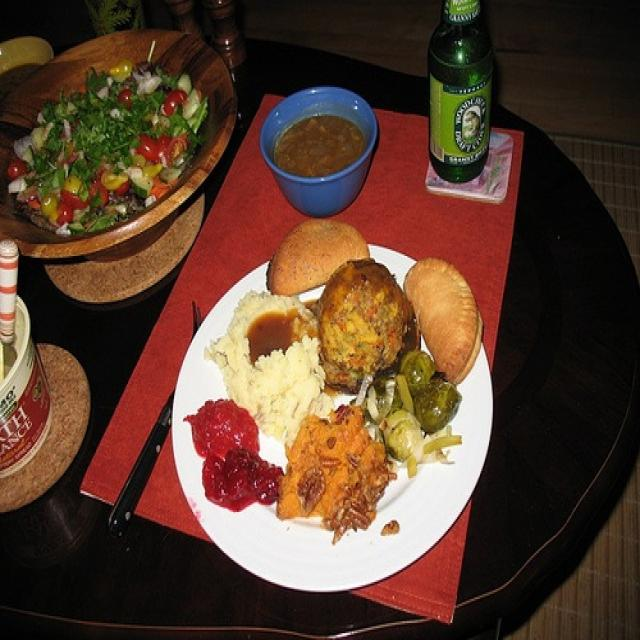bottle: (426, 0, 493, 186)
